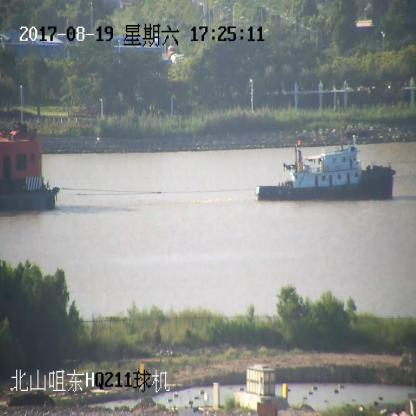Fishing Boat: (256, 138, 397, 199), (0, 122, 58, 208)
